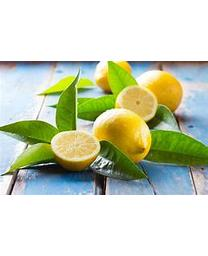lemon: (95, 110, 152, 162), (52, 130, 101, 172), (115, 87, 158, 120)
